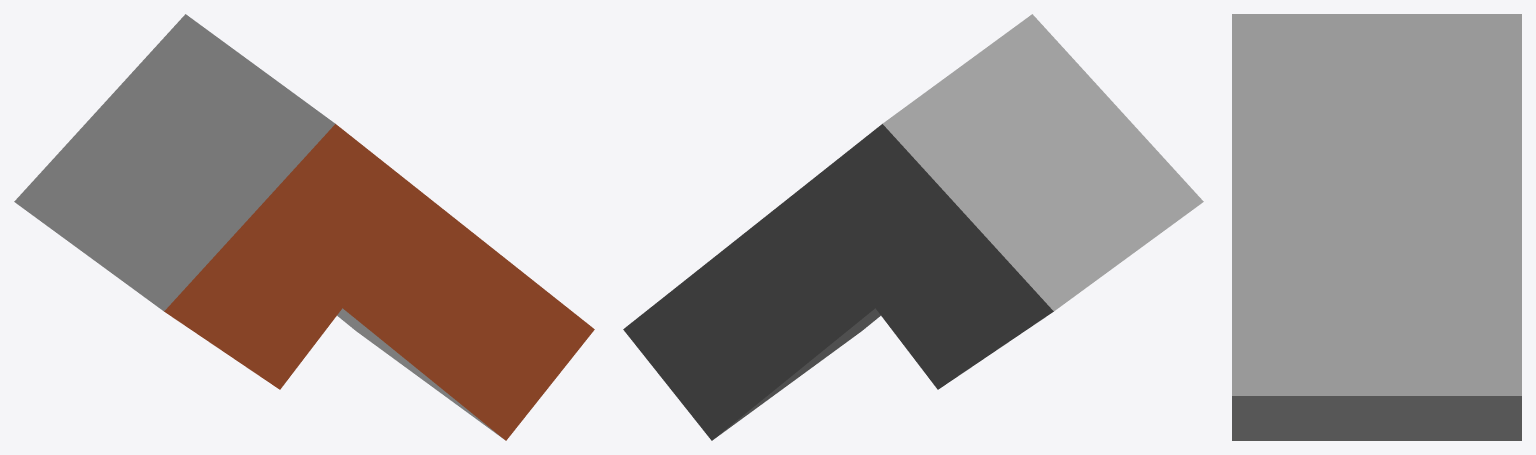
The model's file is construction_0630_assumed_A_Casa_h6m.obj.
3 views of the same model, side by side, from view 1: azimuth 30°, elevation 25°; view 2: azimuth 150°, elevation 25°; view 3: azimuth 270°, elevation 25° (orthographic). The views are drawn at different scales.
Visible parts, largest first — view 1: construction_0630_assumed_A_Casa; view 2: construction_0630_assumed_A_Casa; view 3: construction_0630_assumed_A_Casa.
Boxes of the visible parts, x1,y1,x2,y2 form: construction_0630_assumed_A_Casa: (14,14,594,440); construction_0630_assumed_A_Casa: (623,14,1203,440); construction_0630_assumed_A_Casa: (1232,14,1521,440).
Size of the model in its own units: 9.95 by 7.92 by 6.
